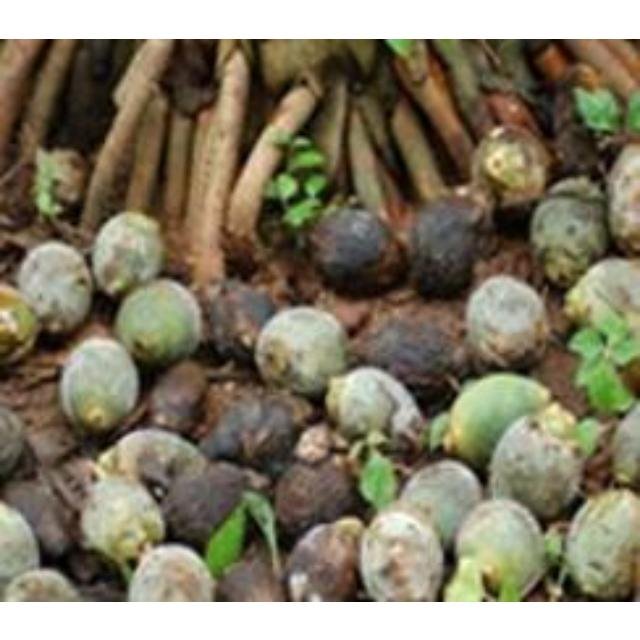damaged: (489, 409, 587, 518), (442, 372, 550, 468), (358, 311, 467, 399), (78, 472, 165, 578), (198, 386, 306, 470), (161, 456, 259, 548), (308, 204, 406, 296), (560, 488, 640, 598), (406, 194, 488, 296), (463, 274, 549, 371), (358, 507, 446, 601), (255, 305, 347, 393), (114, 280, 206, 368), (58, 337, 138, 437), (324, 365, 424, 445), (529, 184, 609, 284), (53, 39, 124, 151), (458, 491, 540, 587), (263, 130, 333, 240), (273, 455, 361, 541), (15, 242, 93, 336), (467, 125, 551, 212), (396, 460, 480, 546), (282, 516, 366, 600), (100, 428, 206, 490), (204, 280, 280, 364), (92, 211, 164, 295), (564, 258, 638, 338), (5, 476, 75, 560), (126, 542, 218, 602), (144, 358, 208, 436), (260, 243, 332, 307), (530, 347, 590, 418), (215, 542, 287, 600), (604, 142, 640, 252), (32, 146, 86, 218), (5, 344, 70, 402), (546, 118, 604, 182), (0, 500, 40, 588), (474, 242, 544, 292), (214, 224, 274, 282), (238, 72, 278, 158), (0, 284, 40, 366), (21, 412, 77, 470), (0, 157, 42, 231), (482, 88, 542, 136), (608, 399, 640, 488), (0, 404, 36, 481), (4, 567, 84, 601), (2, 213, 58, 260), (477, 66, 535, 110), (168, 68, 218, 118), (56, 456, 102, 510), (442, 556, 490, 602), (385, 40, 433, 86), (319, 49, 366, 95), (170, 38, 214, 84), (66, 546, 114, 586), (614, 324, 640, 396), (80, 40, 120, 86), (547, 82, 581, 134), (532, 42, 576, 82), (258, 203, 294, 250), (596, 130, 632, 173), (572, 416, 604, 459), (563, 60, 601, 92), (451, 182, 484, 212), (622, 88, 640, 136)
